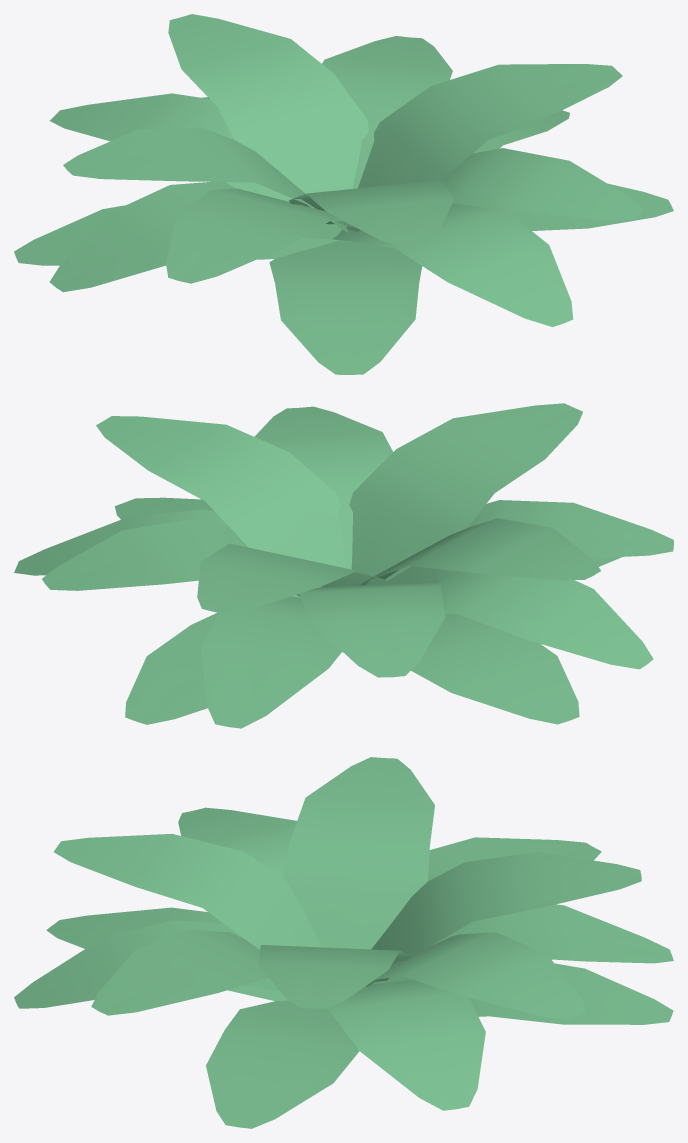
Rendered from bosje.fbx.
3 views of the same model, one above another, from view 1: azimuth 30°, elevation 25°; view 2: azimuth 150°, elevation 25°; view 3: azimuth 270°, elevation 25° (orthographic). The views are drawn at different scales.
Visible parts, largest first — view 1: Plane.010, Plane.011, Plane.012, Plane.003, Plane.004, Plane.007, Plane.009, Plane, Plane.006, Plane.008, Plane.005, Plane.013 (+2 smaller); view 2: Plane.008, Plane.011, Plane.001, Plane, Plane.013, Plane.005, Plane.006, Plane.009, Plane.007, Plane.010, Plane.004, Plane.014 (+2 smaller); view 3: Plane.009, Plane.008, Plane.002, Plane.015, Plane.010, Plane.006, Plane.007, Plane.001, Plane.011, Plane.003, Plane.014, Plane.004 (+2 smaller).
Part boxes in pixels (box(x1,y1,x2,y2)): Plane.010: box(168, 14, 368, 193); Plane.011: box(358, 64, 622, 188); Plane.012: box(269, 240, 422, 374); Plane.003: box(333, 203, 573, 326); Plane.004: box(166, 188, 356, 283); Plane.007: box(346, 148, 643, 231); Plane.009: box(63, 127, 348, 232); Plane: box(49, 182, 342, 292); Plane.006: box(322, 36, 452, 188); Plane.008: box(289, 180, 454, 246); Plane.005: box(49, 93, 336, 225); Plane.013: box(14, 205, 339, 265); Plane.008: box(349, 403, 582, 581); Plane.011: box(96, 416, 346, 568); Plane.001: box(200, 596, 341, 728); Plane: box(439, 572, 653, 669); Plane.013: box(411, 613, 579, 724); Plane.005: box(296, 581, 445, 677); Plane.006: box(42, 519, 321, 590); Plane.009: box(359, 518, 600, 585); Plane.007: box(254, 406, 392, 569); Plane.010: box(197, 543, 386, 613); Plane.004: box(386, 500, 673, 583); Plane.014: box(125, 612, 342, 724); Plane.009: box(282, 757, 434, 949); Plane.008: box(54, 834, 321, 949); Plane.002: box(325, 980, 485, 1110); Plane.015: box(206, 1000, 359, 1128); Plane.010: box(366, 852, 641, 986); Plane.006: box(375, 932, 586, 1019); Plane.007: box(91, 929, 268, 1015); Plane.001: box(371, 904, 673, 984); Plane.011: box(258, 945, 409, 1008); Plane.003: box(14, 920, 279, 1008); Plane.014: box(469, 963, 673, 1024); Plane.004: box(178, 807, 296, 875).
Size of the model in its own units: 443 by 86.47 by 448.
